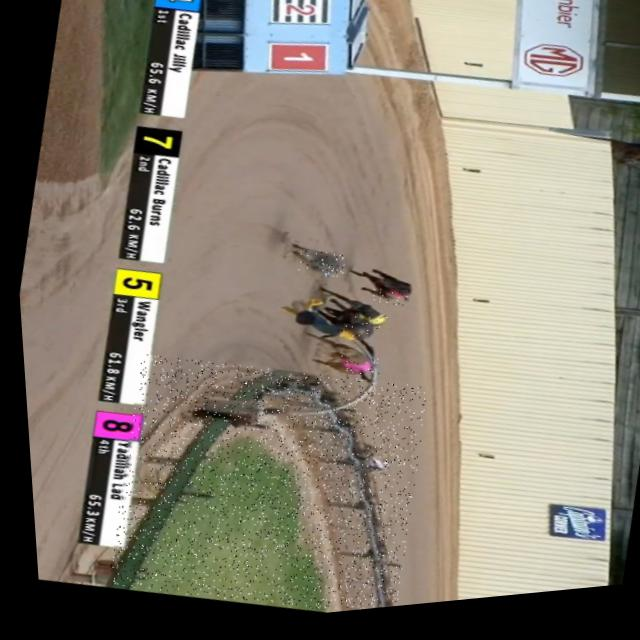dog_eight: (330, 357, 374, 387)
dog_five: (346, 315, 382, 342)
dog_four: (288, 251, 342, 288)
dog_one: (365, 290, 405, 316)
dog_seven: (335, 328, 364, 349)
dog_two: (352, 458, 387, 483)
rail: (98, 377, 383, 614)
